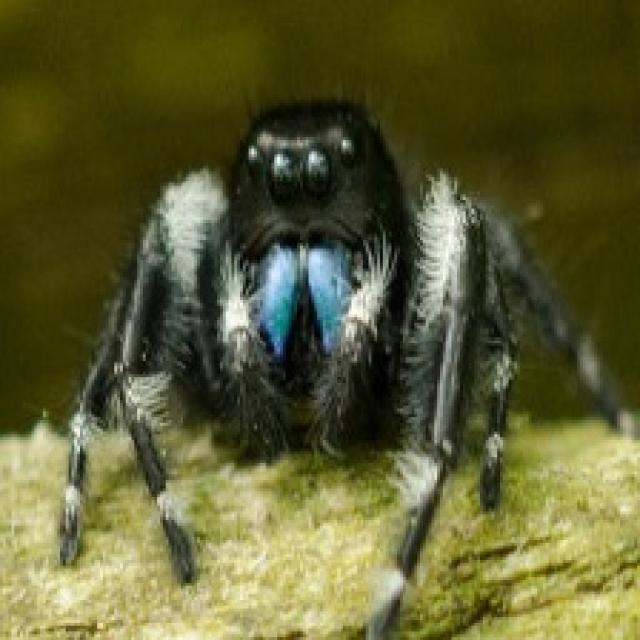Non venomous spider: (77, 64, 598, 606)
